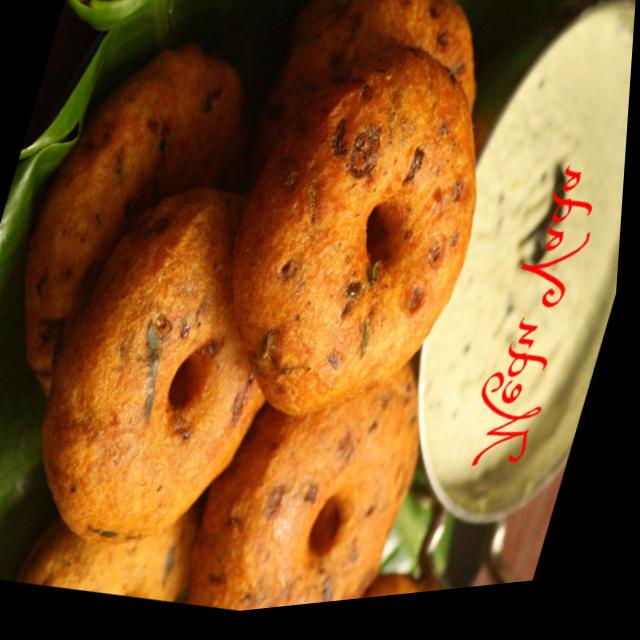VADA: (12, 0, 480, 610)
WHITE CHUTNEY: (420, 11, 634, 487)
